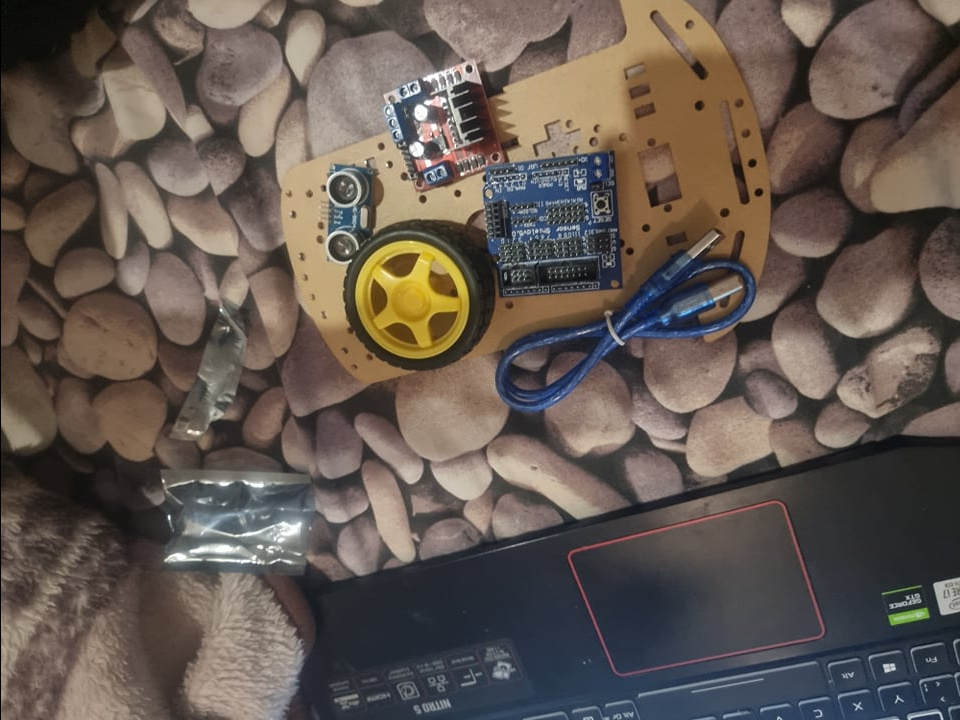5V EXPANSION: (479, 150, 629, 298)
MOTOR: (376, 56, 506, 192)
SENSOR: (320, 159, 375, 268)
